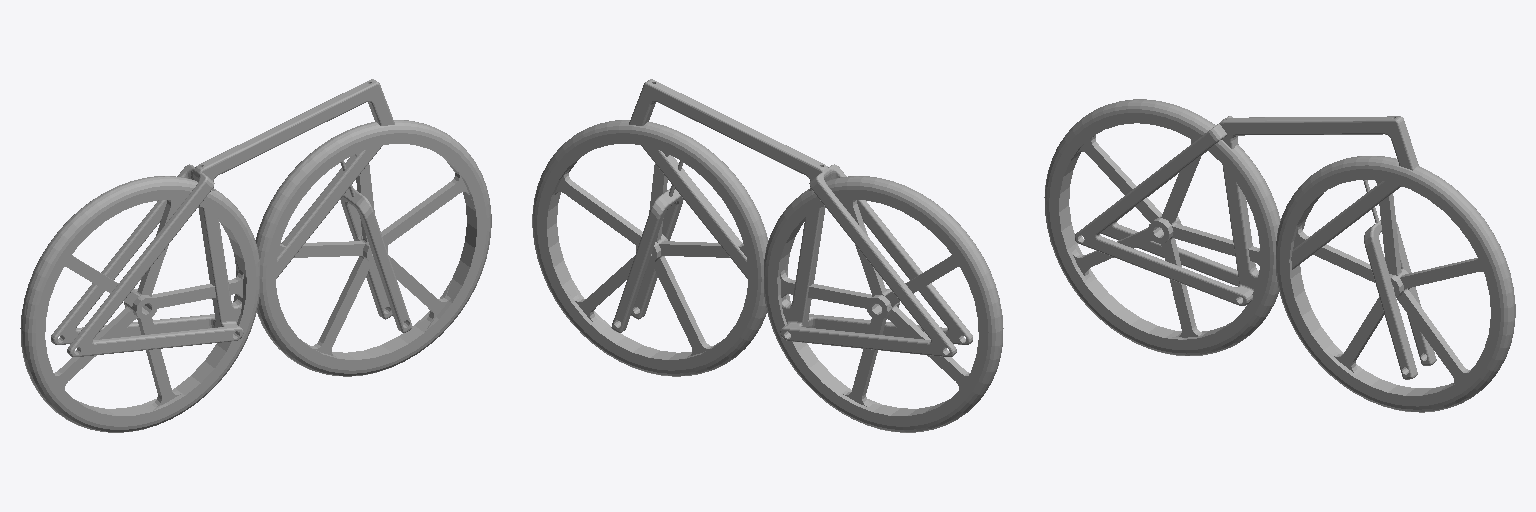
robot.urdf — sbike250417:
<?xml version="1.0" encoding="utf-8"?>
<!-- This URDF was automatically created by SolidWorks to URDF Exporter! Originally created by [author] ([email redacted]) 
     Commit Version: 1.6.0-4-g7f85cfe  Build Version: 1.6.7995.38578
     For more information, please see http://wiki.ros.org/sw_urdf_exporter -->
<robot
  name="sbike250417">
  <link
    name="base_link">
  <inertial>
  <origin
    xyz="0.14157255 0.0 -0.06833042"
    rpy="0 0 0" />
  <mass
    value="5.8629187" />
  <inertia
    ixx="0.09498332"
    ixy="-3e-08"
    ixz="0.00185079"
    iyy="0.18358956"
    iyz="1e-08"
    izz="0.097214" />
</inertial>
    <visual>
      <origin
        xyz="0 0 0"
        rpy="0 0 0" />
      <geometry>
        <mesh
          filename="package://sbike250417/meshes/base_link.STL" />
      </geometry>
      <material
        name="">
        <color
          rgba="0.69804 0.69804 0.69804 1" />
      </material>
    </visual>
    <collision>
      <origin
        xyz="0 0 0"
        rpy="0 0 0" />
      <geometry>
        <mesh
          filename="package://sbike250417/meshes/base_link.STL" />
      </geometry>
    </collision>
  </link>
  <link
    name="front_turn">
    <inertial>
  <origin
    xyz="0 0 -0.09035699"
    rpy="0 0 0" />
  <mass
    value="0.51774673" />
  <inertia
    ixx="0.00872423"
    ixy="0.0"
    ixz="0.0"
    iyy="0.00809841"
    iyz="0.0"
    izz="0.00067395" />
</inertial>
    <visual>
      <origin
        xyz="0 0 0"
        rpy="0 0 0" />
      <geometry>
        <mesh
          filename="package://sbike250417/meshes/front_turn.STL" />
      </geometry>
      <material
        name="">
        <color
          rgba="0.69804 0.69804 0.69804 1" />
      </material>
    </visual>
    <collision>
      <origin
        xyz="0 0 0"
        rpy="0 0 0" />
      <geometry>
        <mesh
          filename="package://sbike250417/meshes/front_turn.STL" />
      </geometry>
    </collision>
  </link>
  <joint
    name="front_turn_joint"
    type="continuous">
    <origin
      xyz="0.36825 0 -0.0031221"
      rpy="0 -0.31416 0" />
    <parent
      link="base_link" />
    <child
      link="front_turn" />
    <axis
      xyz="0 0 -1" />
  </joint>
  <link
    name="front_wheel">
   <inertial>
  <origin
    xyz="3.98e-06 1.311e-05 0.00054042"
    rpy="0 0 0" />
  <mass
    value="3.5889276" />
  <inertia
    ixx="0.03120089"
    ixy="-3.7e-07"
    ixz="3.8e-07"
    iyy="0.03119983"
    iyz="5.3e-07"
    izz="0.06130831" />
</inertial>
    <visual>
      <origin
        xyz="0 0 0"
        rpy="0 0 0" />
      <geometry>
        <mesh
          filename="package://sbike250417/meshes/front_wheel.STL" />
      </geometry>
      <material
        name="">
        <color
          rgba="0.69804 0.69804 0.69804 1" />
      </material>
    </visual>
    <collision>
      <origin
        xyz="0 0 0"
        rpy="0 0 0" />
      <geometry>
        <mesh
          filename="package://sbike250417/meshes/front_wheel.STL" />
      </geometry>
    </collision>
  </link>
  <joint
    name="front_wheel_joint"
    type="continuous">
    <origin
      xyz="0 0 -0.32635"
      rpy="1.5708 0.31416 0" />
    <parent
      link="front_turn" />
    <child
      link="front_wheel" />
    <axis
      xyz="0 0 -1" />
  </joint>
  <link
    name="rear_wheel">
    <inertial>
  <origin
    xyz="-9.81e-06 9.57e-06 0.00054042"
    rpy="0 0 0" />
  <mass
    value="3.5889276" />
  <inertia
    ixx="0.03120036"
    ixy="6.5e-07"
    ixz="-3e-07"
    iyy="0.03120036"
    iyz="5.9e-07"
    izz="0.06130831" />
</inertial>
    <visual>
      <origin
        xyz="0 0 0"
        rpy="0 0 0" />
      <geometry>
        <mesh
          filename="package://sbike250417/meshes/rear_wheel.STL" />
      </geometry>
      <material
        name="">
        <color
          rgba="0.69804 0.69804 0.69804 1" />
      </material>
    </visual>
    <collision>
      <origin
        xyz="0 0 0"
        rpy="0 0 0" />
      <geometry>
        <mesh
          filename="package://sbike250417/meshes/rear_wheel.STL" />
      </geometry>
    </collision>
  </link>
  <joint
    name="rear_wheel_joint"
    type="continuous">
    <origin
      xyz="-0.1709 0 -0.3135"
      rpy="1.5708 0 0" />
    <parent
      link="base_link" />
    <child
      link="rear_wheel" />
    <axis
      xyz="0 0 -1" />
  </joint>
</robot>

--- What the picture shows (computed from the rendered views, not written in the file) ---
The picture shows the robot from 3 angles, left to right: view 1: azimuth 30°, elevation 25°; view 2: azimuth 150°, elevation 25°; view 3: azimuth 330°, elevation 25°; orthographic projection.
Model sbike250417 with 4 links and 3 joints (3 continuous), rooted at base_link, posed every joint at zero.
Visible links, largest first — view 1: front_wheel, rear_wheel, base_link, front_turn; view 2: front_wheel, rear_wheel, base_link, front_turn; view 3: front_wheel, rear_wheel, base_link, front_turn.
Boxes of the visible links, box(x1,y1,x2,y2) form: front_wheel: box(255, 120, 491, 376); rear_wheel: box(20, 176, 259, 432); base_link: box(51, 79, 394, 356); front_turn: box(340, 160, 412, 332); front_wheel: box(532, 120, 768, 376); rear_wheel: box(764, 176, 1003, 432); base_link: box(629, 79, 972, 356); front_turn: box(611, 160, 683, 332); front_wheel: box(1276, 156, 1515, 412); rear_wheel: box(1044, 99, 1280, 355); base_link: box(1075, 116, 1418, 305); front_turn: box(1363, 180, 1436, 379).
Size in the robot's own frame: 1.3 by 0.12 by 0.7719 metres.
Meshes: 4 distinct files referenced, 4 mesh visuals loaded (4 binary STL).
